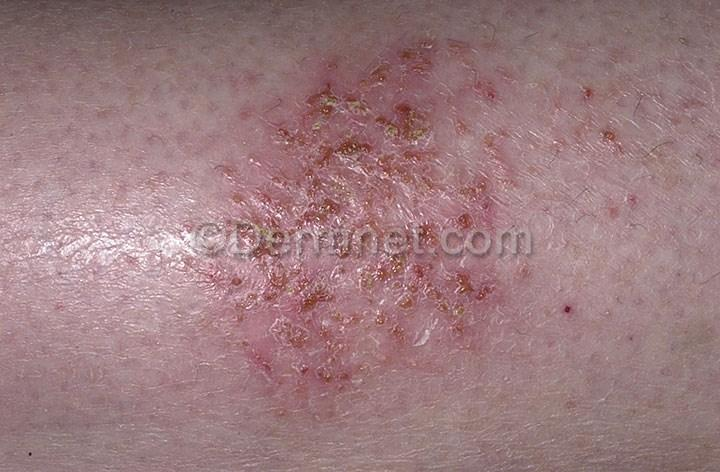Eczema: (173, 15, 570, 405)
